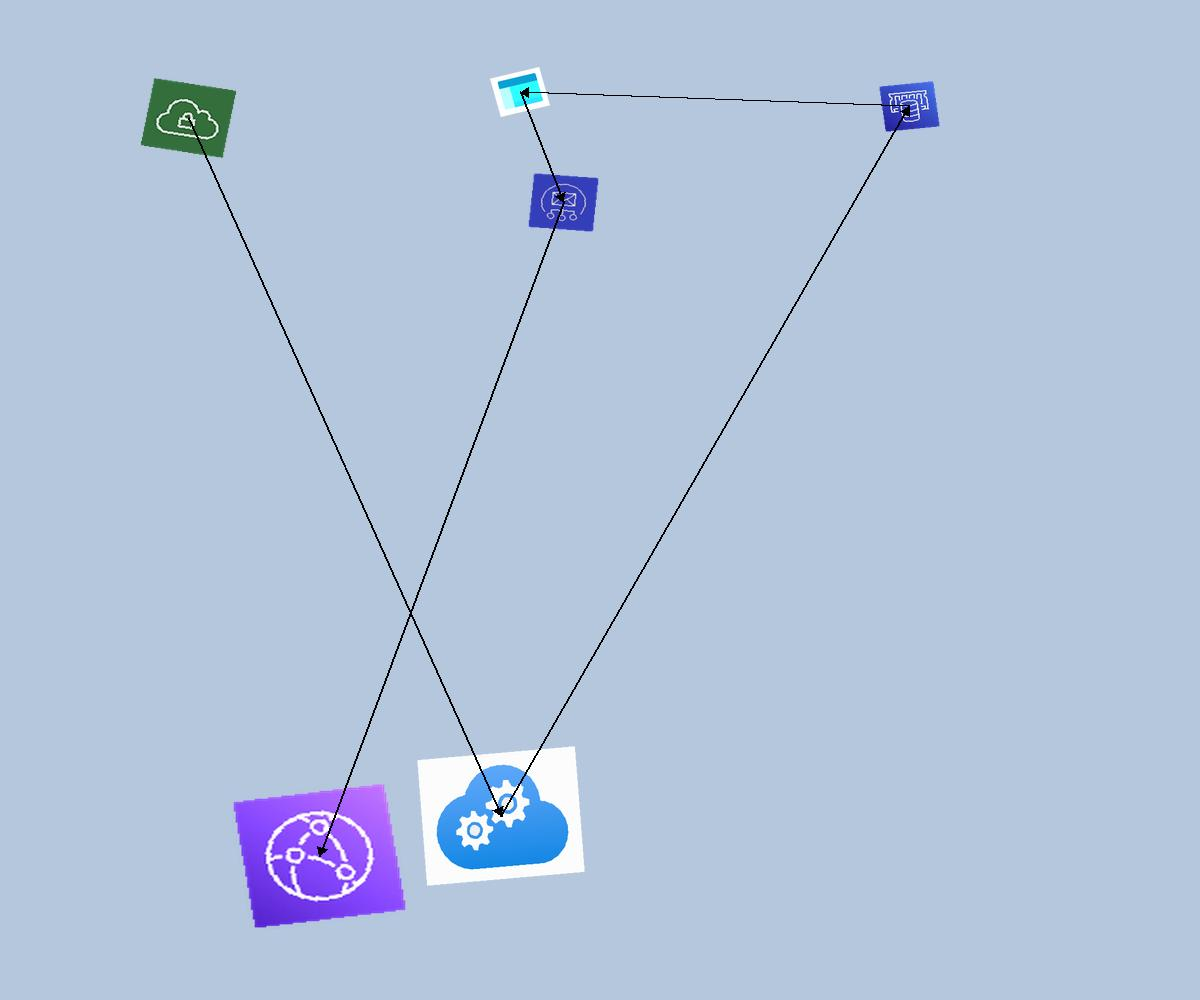AWS-CloudFront: (232, 783, 407, 929)
AWS-ElastiCache: (879, 81, 940, 132)
AWS-Private_vpc: (140, 78, 237, 158)
AWS-Simple-Email-Service: (528, 173, 599, 232)
Azure_cloud_services: (417, 746, 585, 886)
Azure_management-portal: (490, 67, 550, 117)
